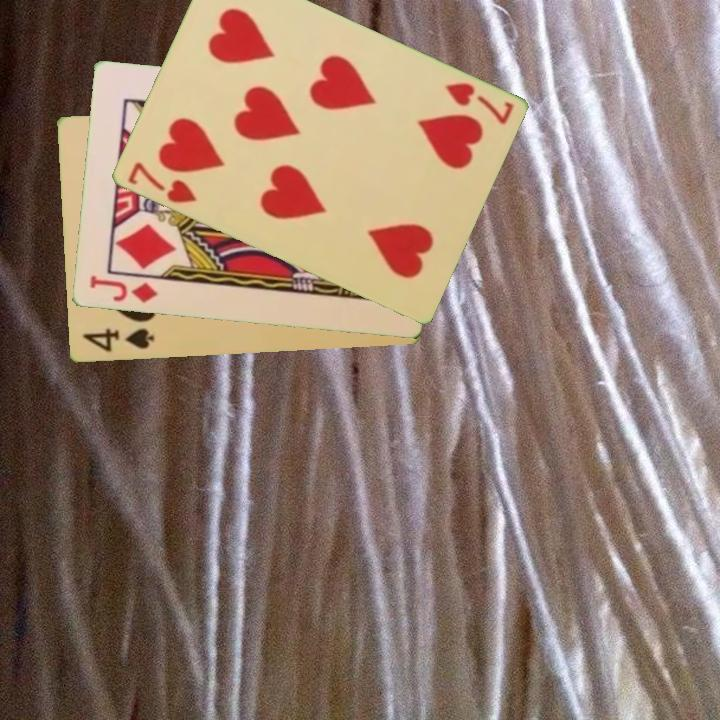4s: (78, 325, 157, 355)
7h: (124, 158, 200, 207), (441, 79, 516, 128)
Jd: (85, 272, 160, 306)
